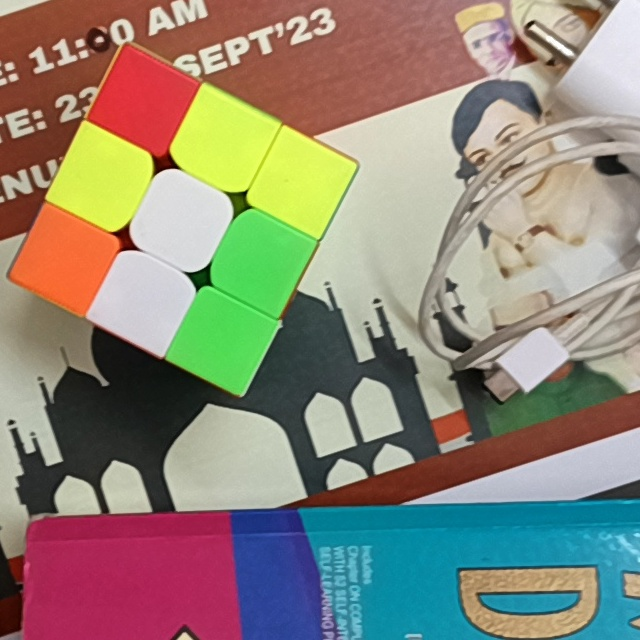tile: (231, 227, 294, 289), (193, 110, 253, 175), (151, 189, 212, 251), (35, 228, 96, 290), (73, 150, 132, 212), (270, 154, 333, 211), (191, 313, 253, 370), (117, 270, 171, 332), (115, 73, 172, 130)
